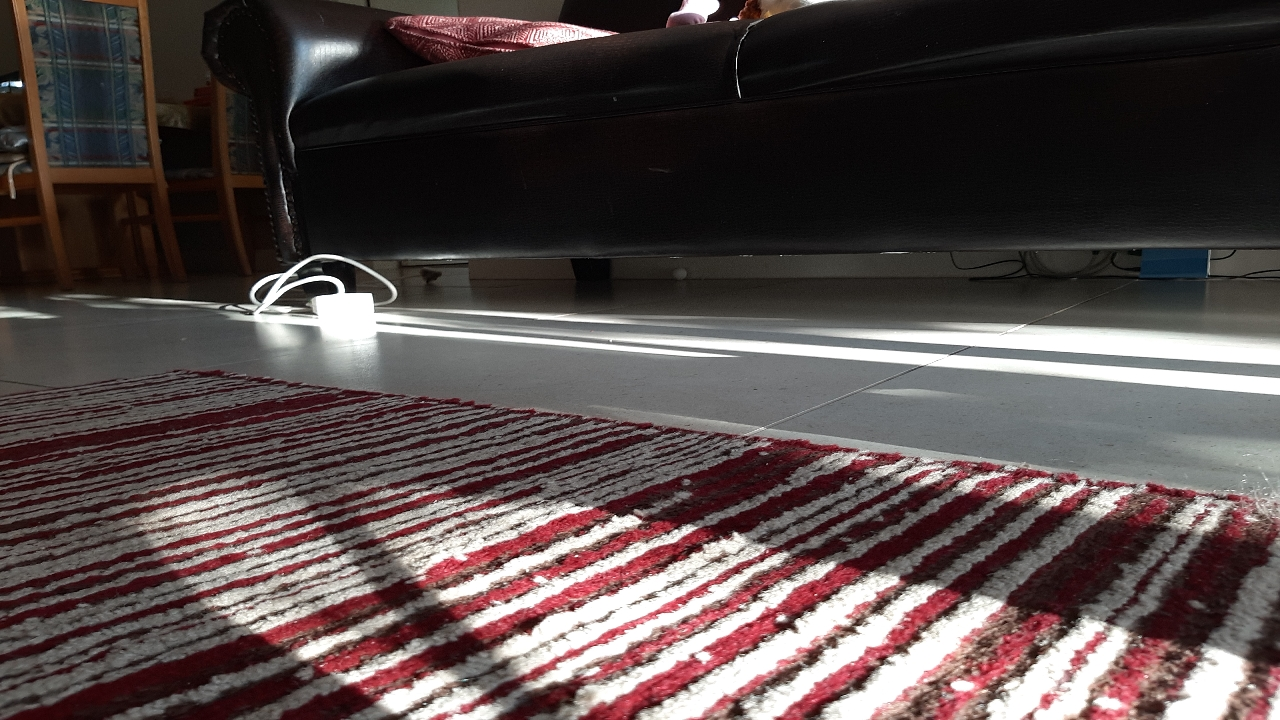cable: (202, 246, 434, 353)
